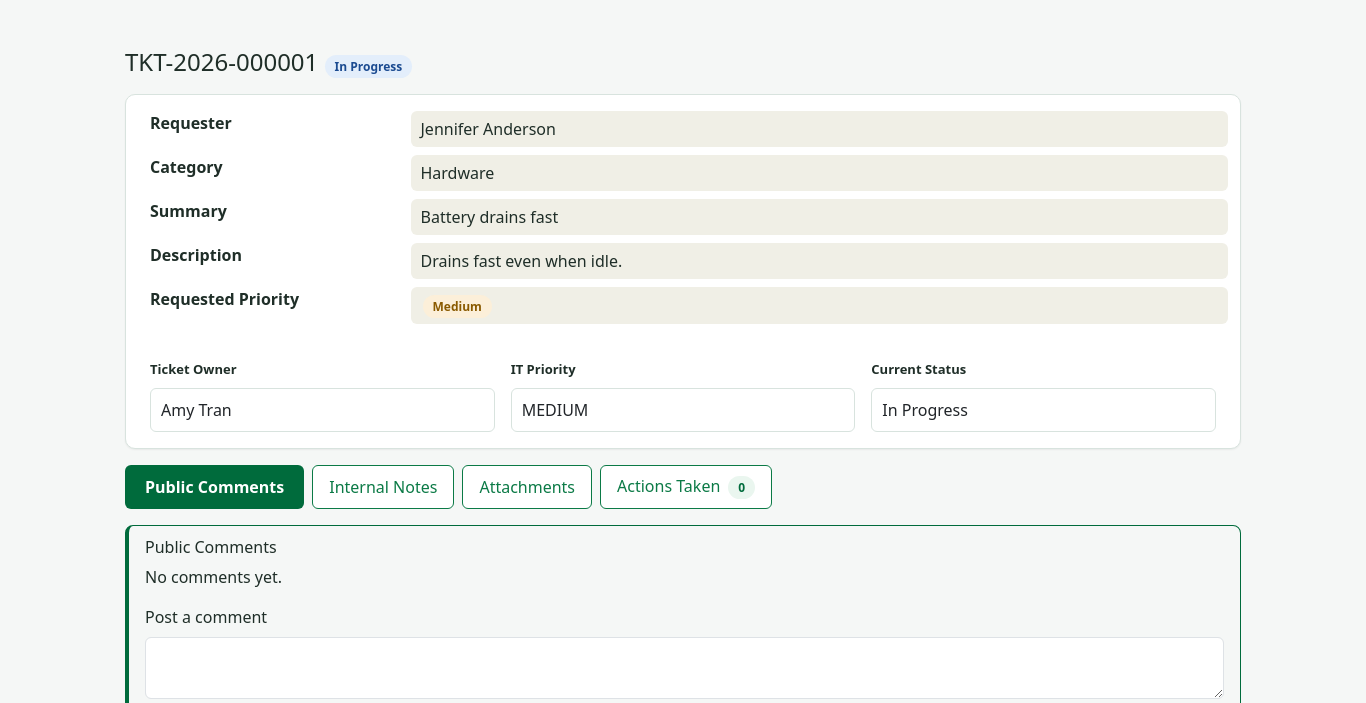
Test case: Ticket workflow feedback (UI-02) › a stale 409 shows an inline callout with Reload, reverts, and Reload fetches the latest version
The image size is (1366, 703).
Expected: the heading "TKT-2026-000001 In Progress" is shown, [125,45,412,78]
Select "Resolved" in the dropdown labelled "Current Status": (1044, 410) [871,388,1216,432]
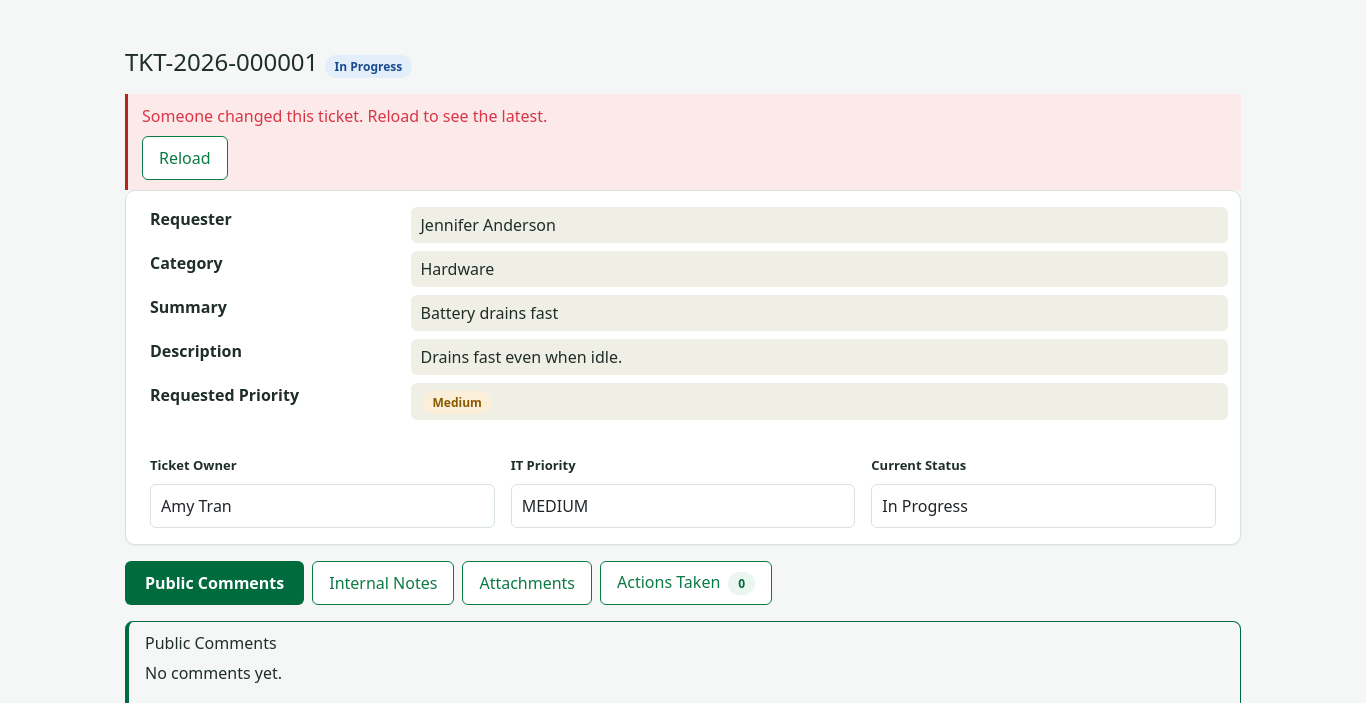
Result: the text "Someone changed this ticket. Reload to see the latest." is shown at [142,105,547,127]
Click the button "Reload": (185, 158) [142,136,228,180]
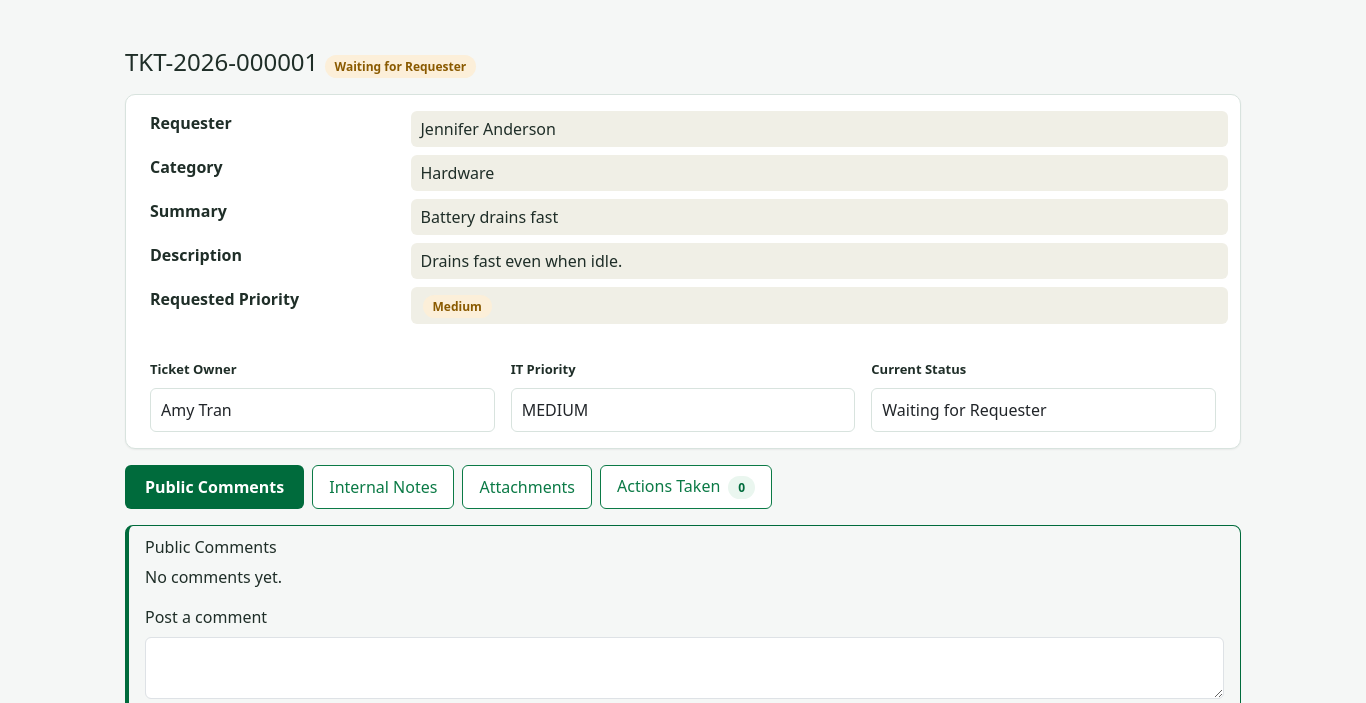
Result: the text with test id "status-badge" reads "Waiting for Requester" at [335,58,466,75]
